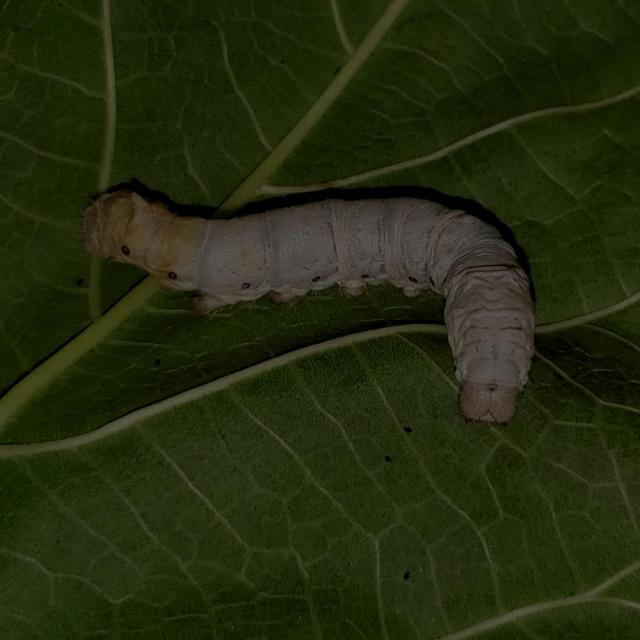Grasserie: (62, 145, 562, 456)
